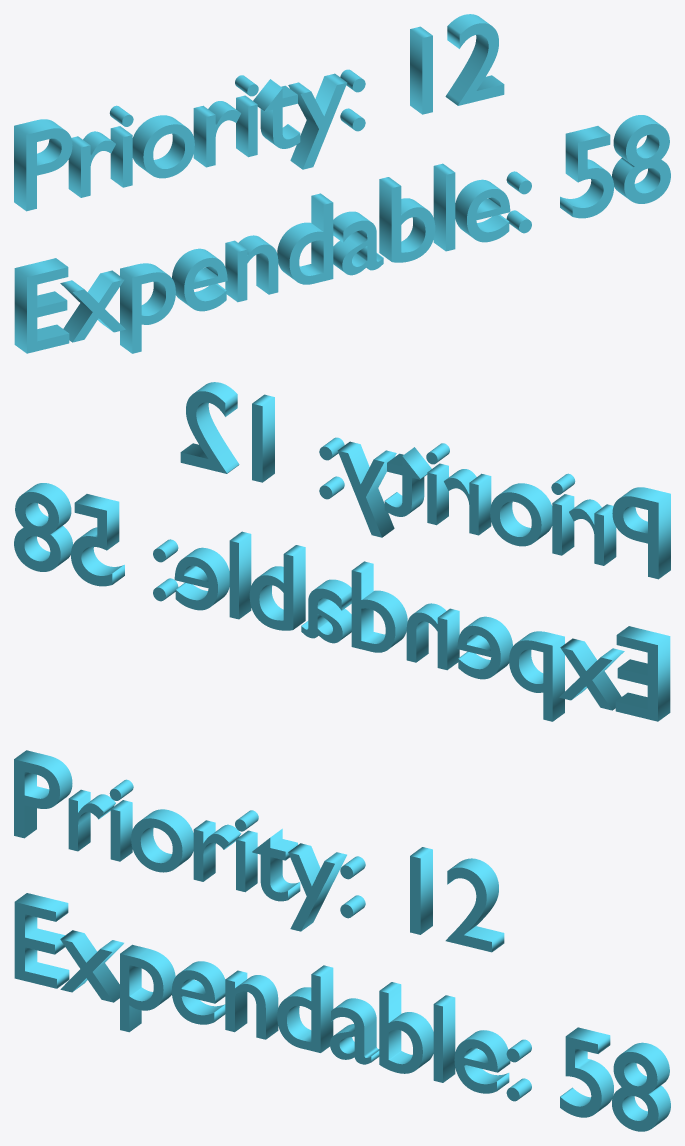
Rendered from console_test_007_result.fbx.
The picture shows the model from 3 angles, top to bottom: view 1: azimuth 30°, elevation 25°; view 2: azimuth 150°, elevation 25°; view 3: azimuth 330°, elevation 25°; orthographic projection.
Parts seen in each view (by area): view 1: Txt_Test_01.033, Txt_Test_01.036; view 2: Txt_Test_01.033, Txt_Test_01.036; view 3: Txt_Test_01.033, Txt_Test_01.036.
Part boxes in pixels (x1,y1,x2,y2): Txt_Test_01.033: (14, 115, 670, 353); Txt_Test_01.036: (14, 14, 504, 211); Txt_Test_01.033: (14, 483, 670, 721); Txt_Test_01.036: (180, 382, 670, 579); Txt_Test_01.033: (14, 893, 670, 1131); Txt_Test_01.036: (14, 750, 504, 952).
Size of the model in its own units: 0.8105 by 0.2955 by 0.027.
